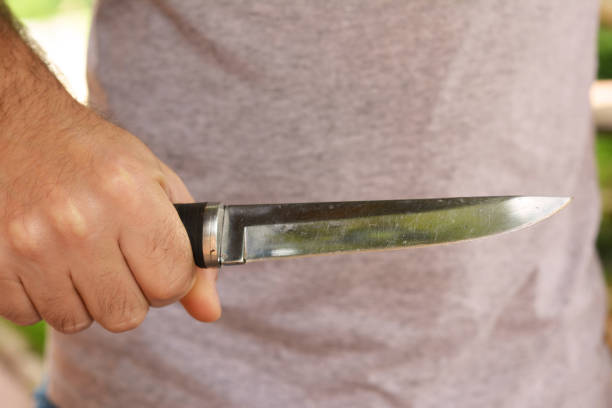knife: (172, 194, 573, 270)
